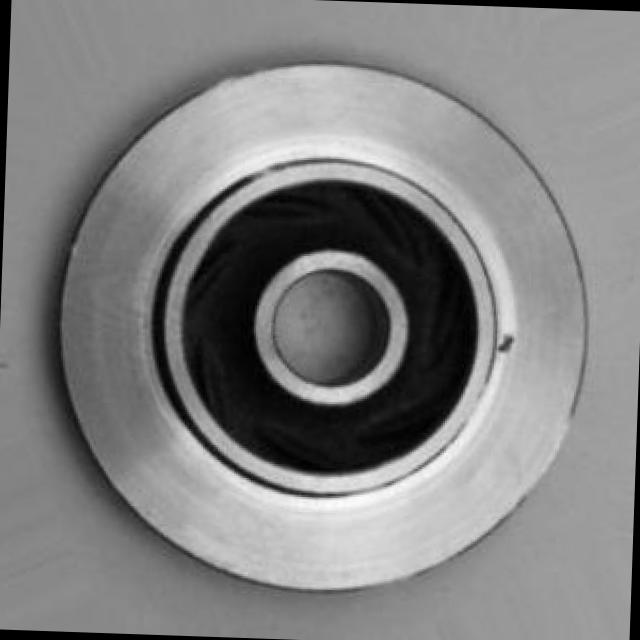Defect: (492, 324, 519, 358)
